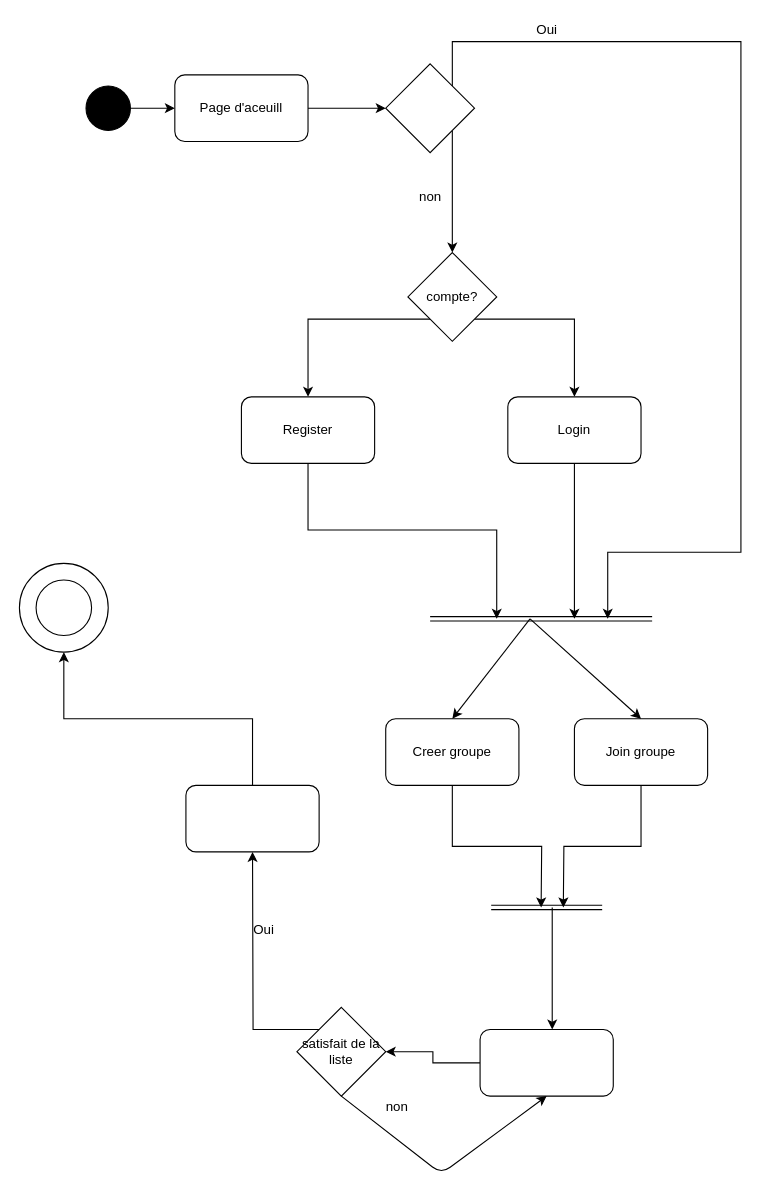
This 769x1202 diagram has some shape labels left out. Each missing label, with the centre of its shape:
"Like/dislike/deja vu une liste de film" belongs at pixel 546 1062.
"login?" belongs at pixel 430 108.
"Reçois film choisi" belongs at pixel 252 818.
